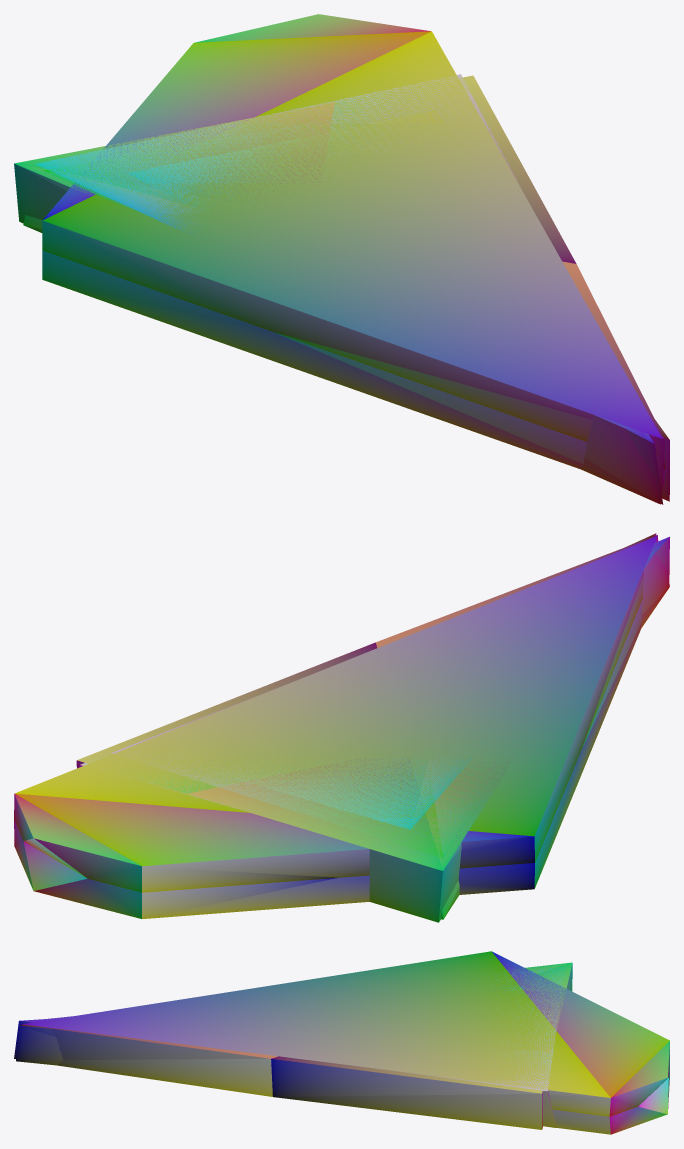
File: Splinters.fbx
3 views of the same model, one above another, from view 1: azimuth 30°, elevation 25°; view 2: azimuth 150°, elevation 25°; view 3: azimuth 270°, elevation 25° (orthographic). The views are drawn at different scales.
Parts seen in each view (by area): view 1: Splinters; view 2: Splinters; view 3: Splinters.
Boxes of the visible parts, x1,y1,x2,y2 form: Splinters: (14,14,669,504); Splinters: (14,533,669,922); Splinters: (14,951,669,1134).
Size of the model in its own units: 0.3447 by 0.04 by 0.6485.
